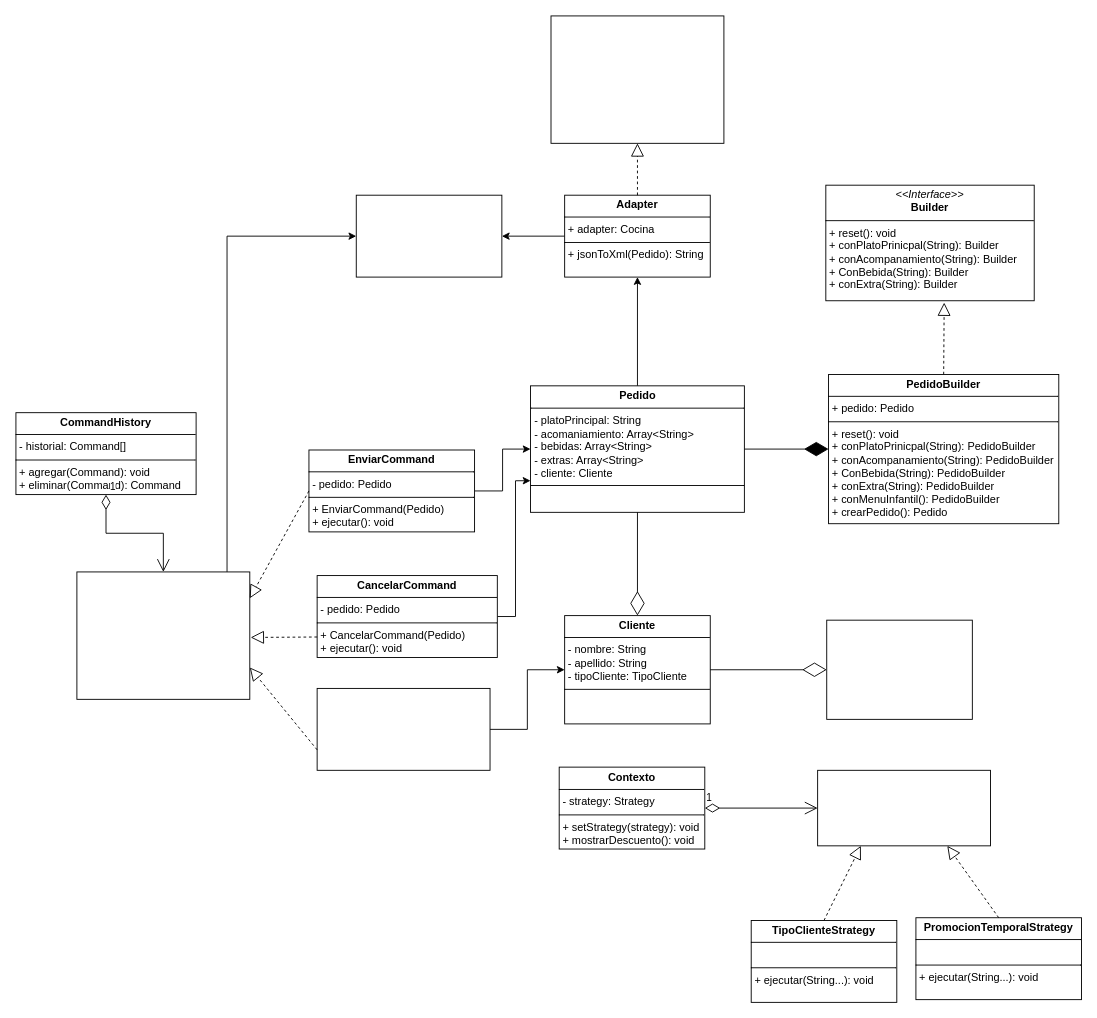
The diagram is 1097 pixels wide and 1018 high, and some of its shapes have lost their labels. The centre of each missing label's shape, as x and y in pixels:
"<<Interface>> Command + ejecutar(): void" goes at [163,635].
"<<Interface>> InterfazJson + jsonToXml(Pedido): String" goes at [637,79].
"<<Interface>> Strategy + ejecutar(data): void" goes at [904,807].
"Cocina - pedidos: Pedidos + cocinar()" goes at [428,235].
"DeshacerCommand - cliente: Cliente + DeshacerCommand(Cliente) + ejecutar(): void" goes at [403,729].
"TipoCliente - nombre: String" goes at [899,669].
